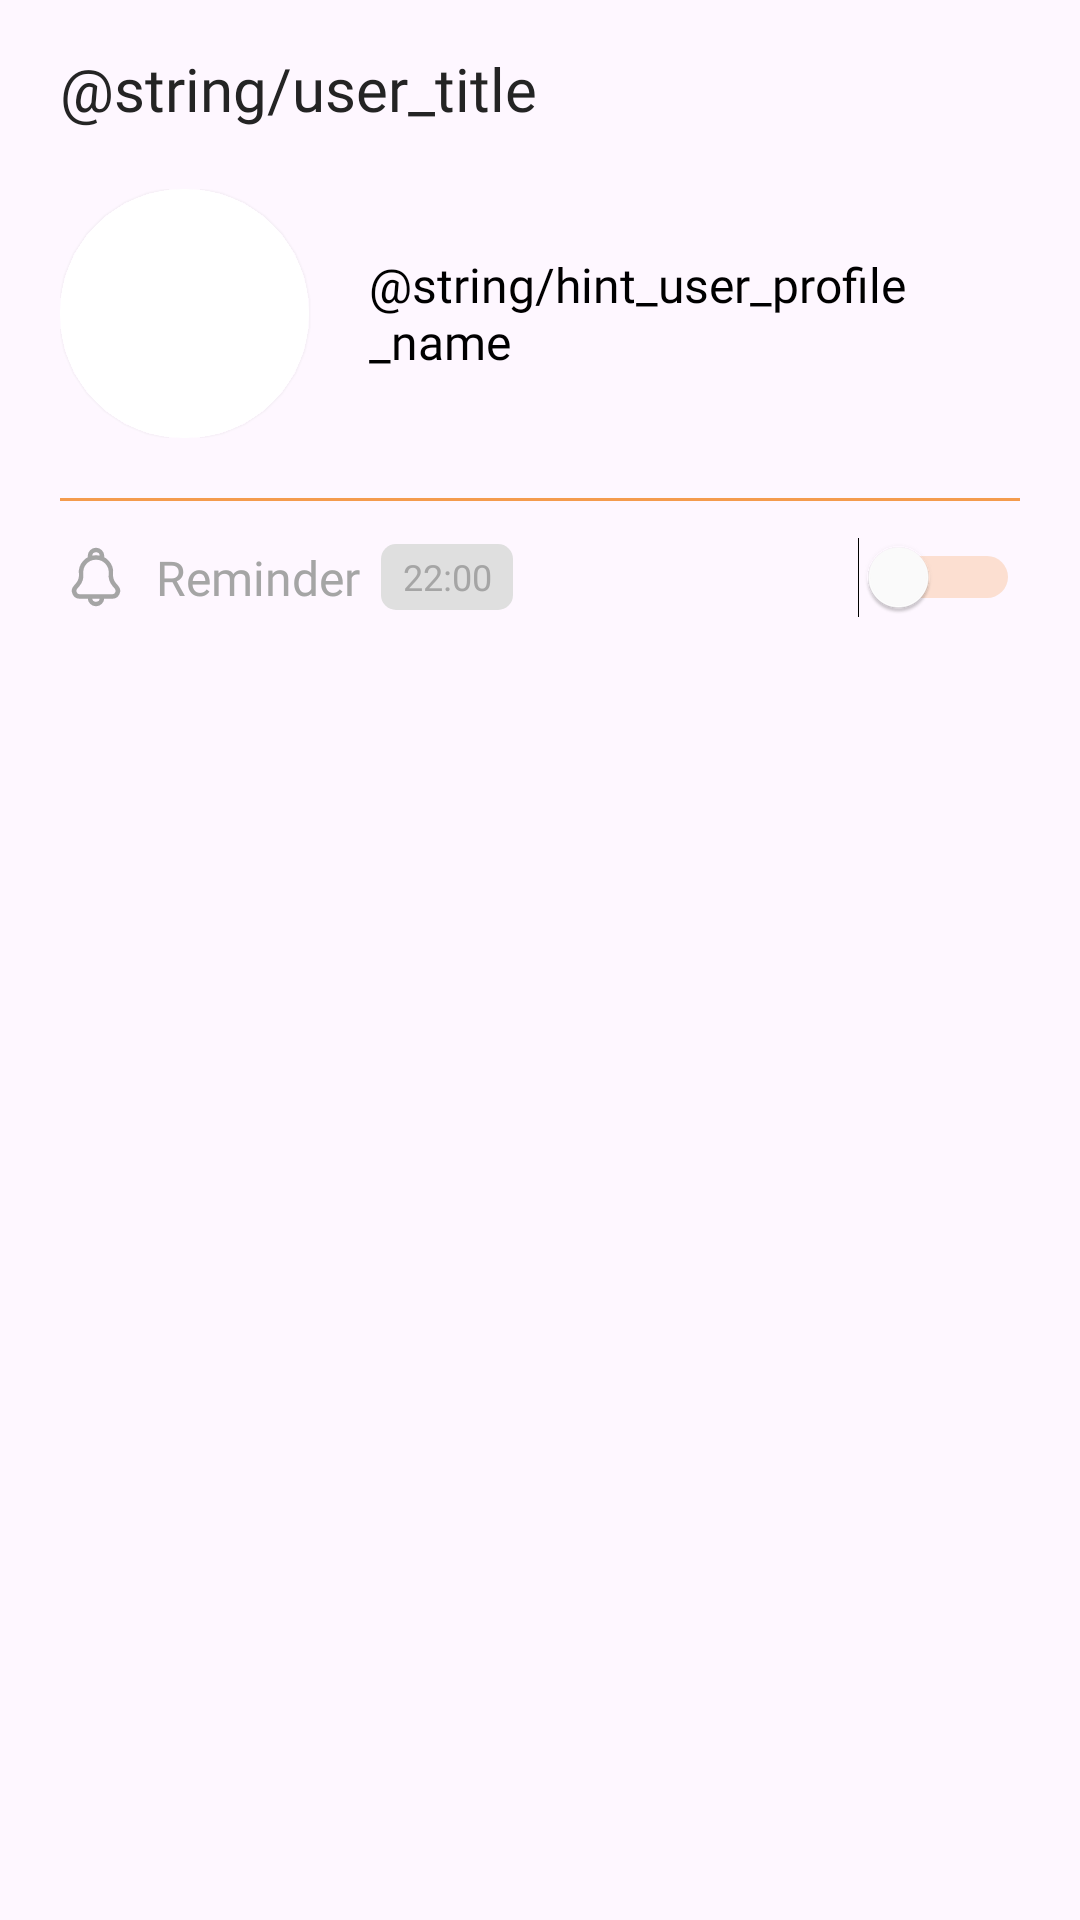

Where to tap for icons on this 1080x1920 app screen, as (x,y):
bell un: (96,577)
